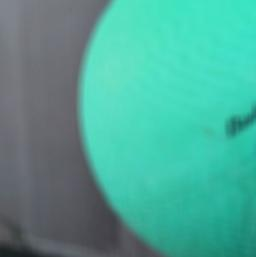algae: (75, 0, 256, 257)
